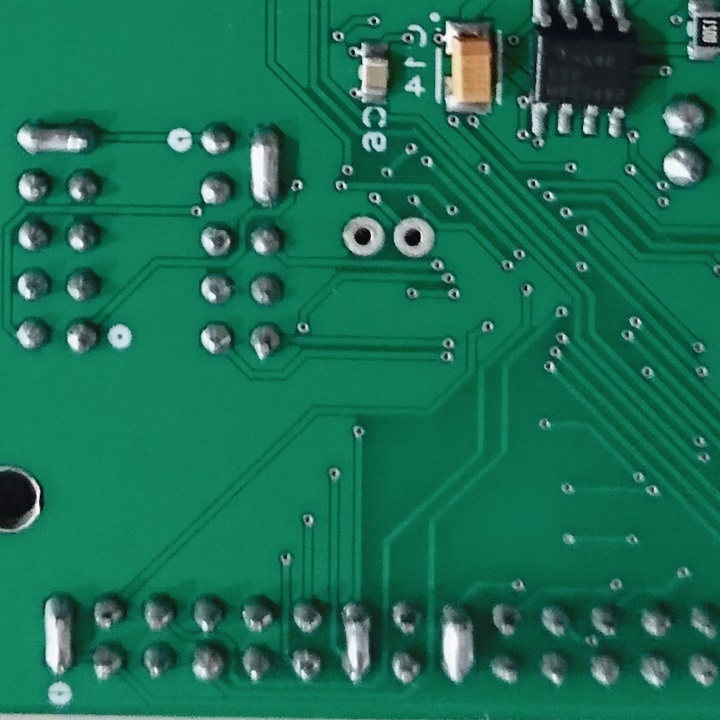F: (387, 209, 435, 267), (339, 210, 384, 261)
P: (12, 115, 99, 159), (438, 596, 480, 686), (40, 587, 77, 680), (244, 120, 281, 212), (339, 594, 376, 685)
